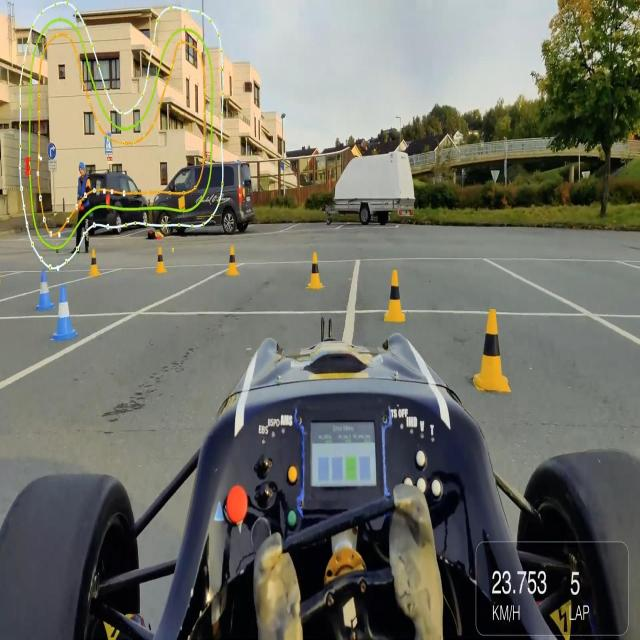blue_cone: (51, 283, 80, 346), (35, 266, 55, 314)
yellow_cone: (468, 301, 515, 397), (380, 267, 409, 325), (304, 251, 326, 294), (224, 244, 242, 280), (154, 245, 169, 278), (87, 247, 101, 278)
